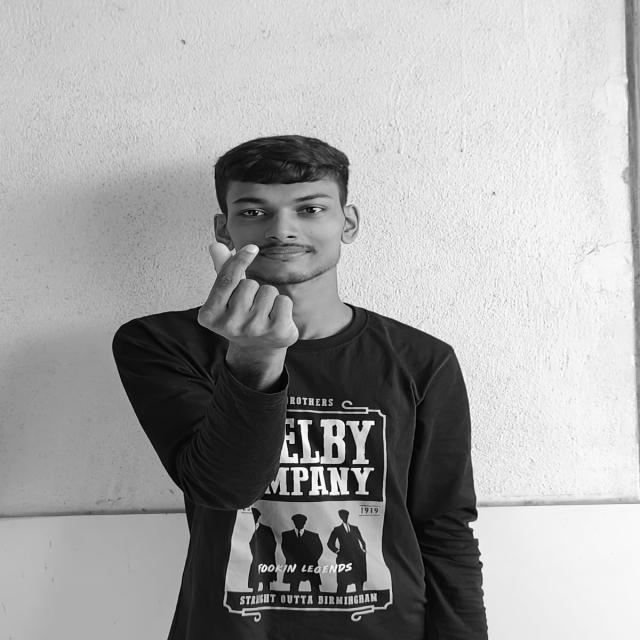Grattitude: (196, 241, 298, 346)
